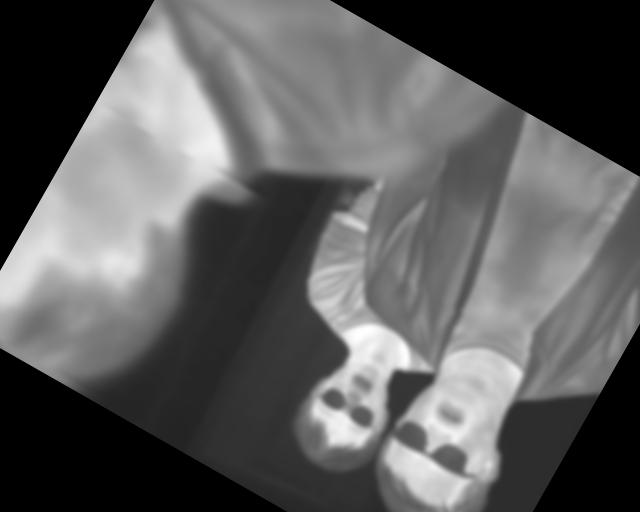face: (352, 355, 537, 512), (275, 341, 412, 488)
